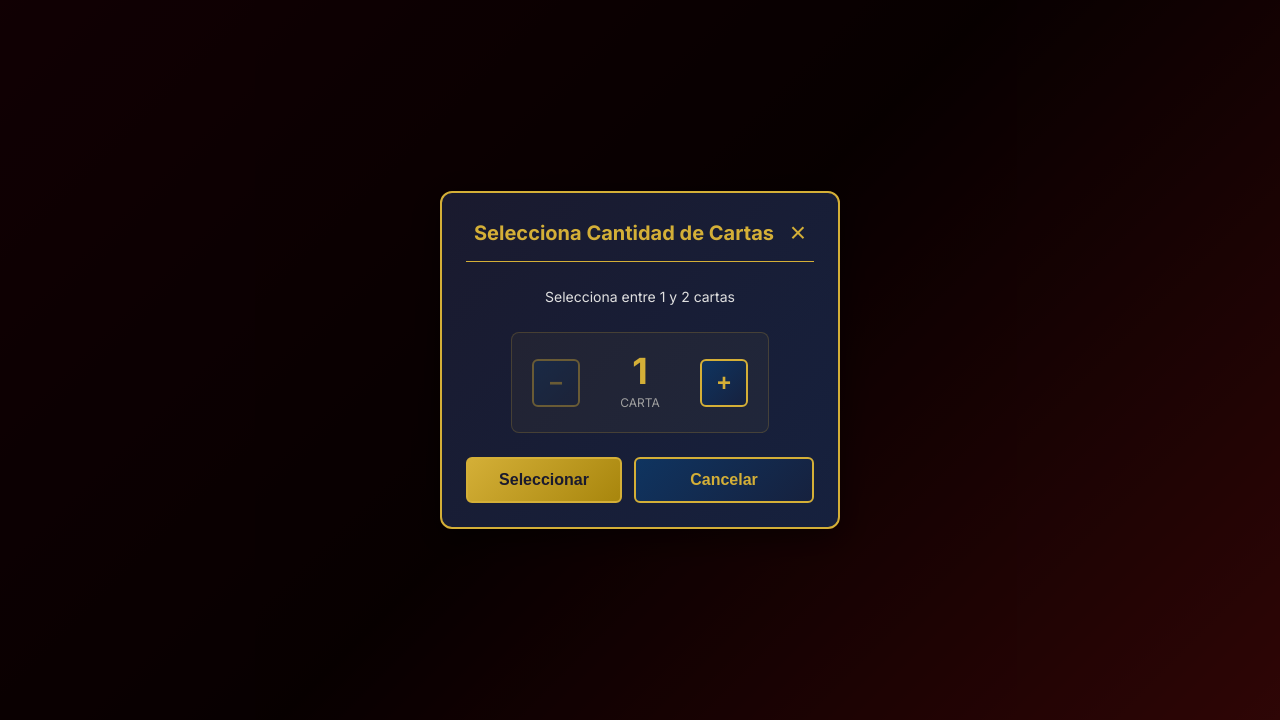
it: ModalSeleccionarCantidad › Incrementar cantidad › deshabilita el botón + cuando se alcanza el máximo
What coordinates should you click on to do the following:
click the button named "Aumentar cantidad"
I would click on:
 (724, 383)
Its box is [700,359,748,407].
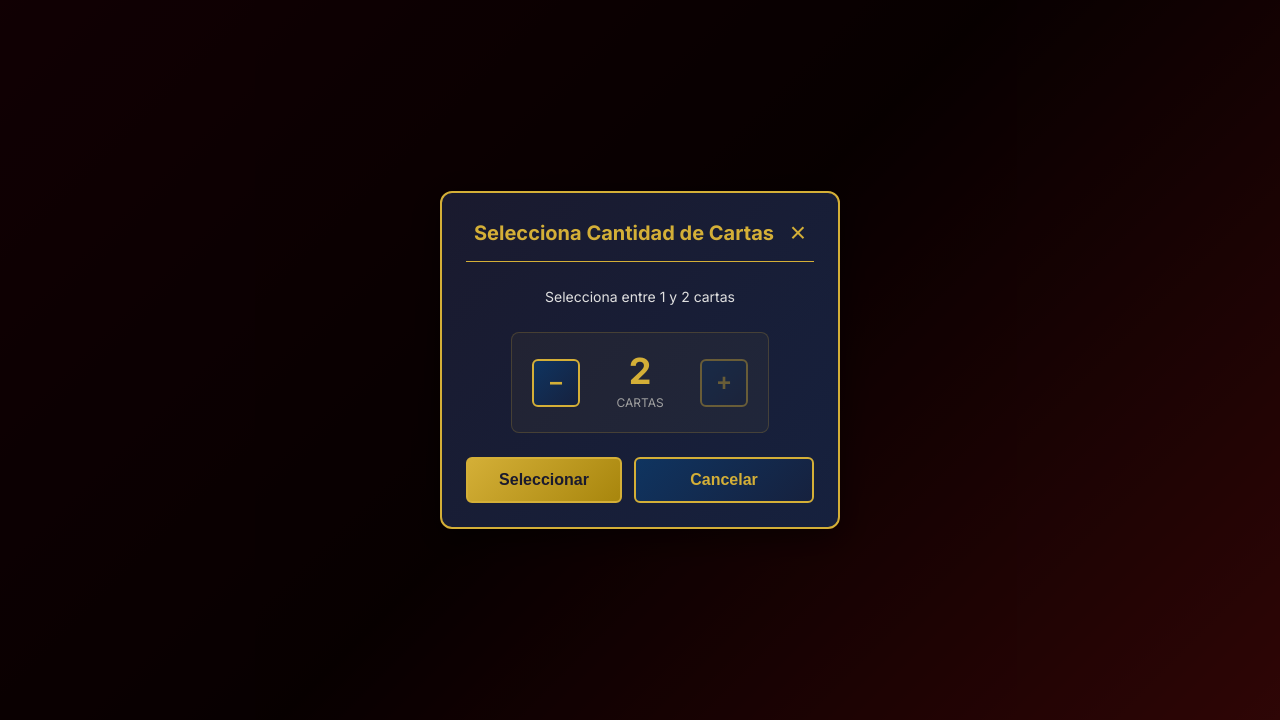
Result: the button named "Aumentar cantidad" is disabled at [700,359,748,407]
